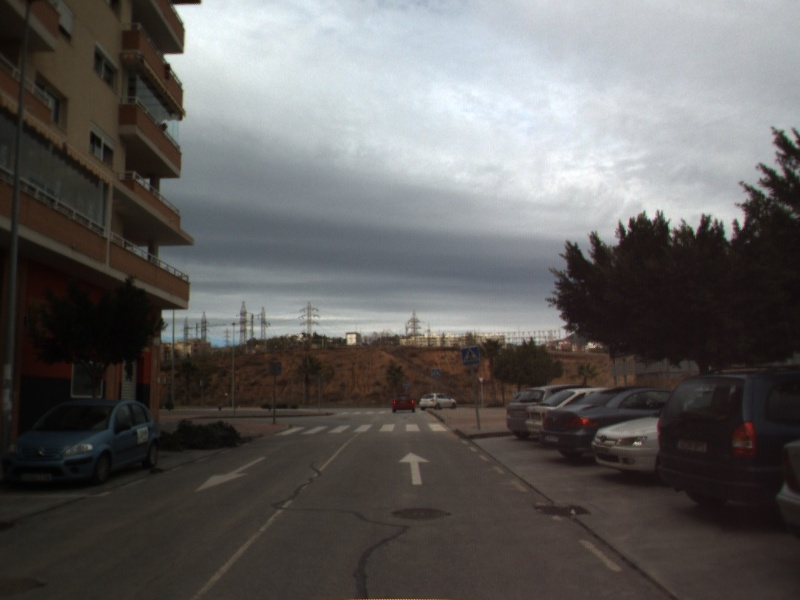STRAIGHT: (397, 450, 433, 487)
